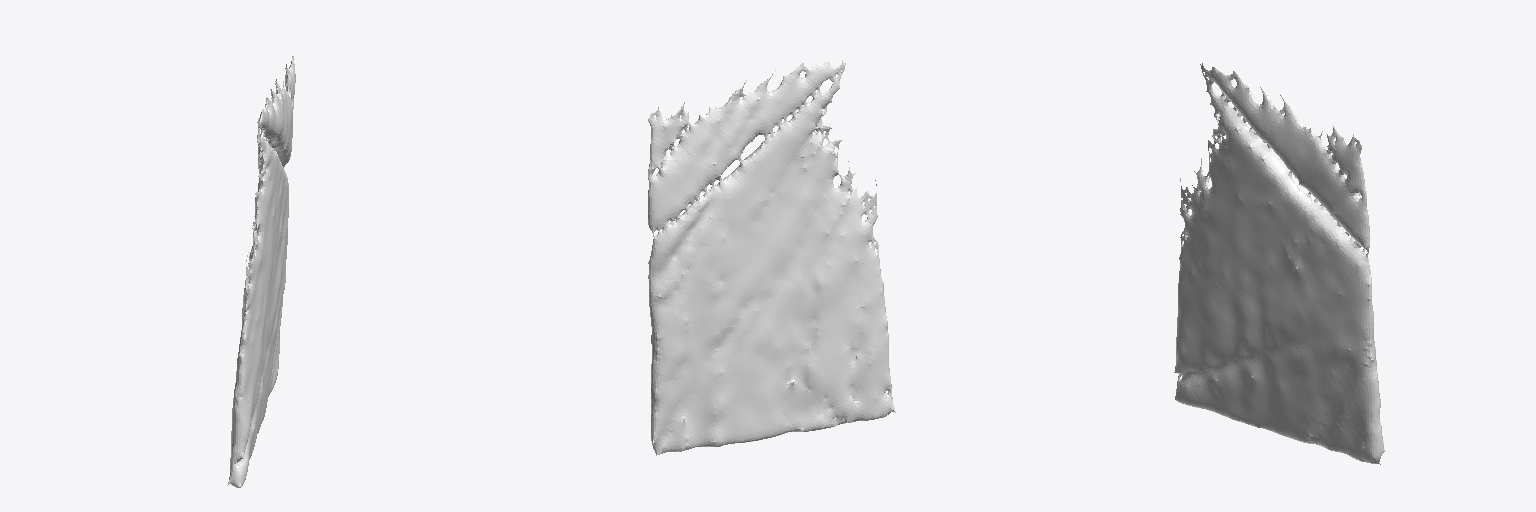
Rendered from battery.obj.
3 views of the same model, side by side, from view 1: azimuth 30°, elevation 25°; view 2: azimuth 150°, elevation 25°; view 3: azimuth 270°, elevation 25° (orthographic).
Bounding box in the file's own units: 27.84 × 60.78 × 32.3.